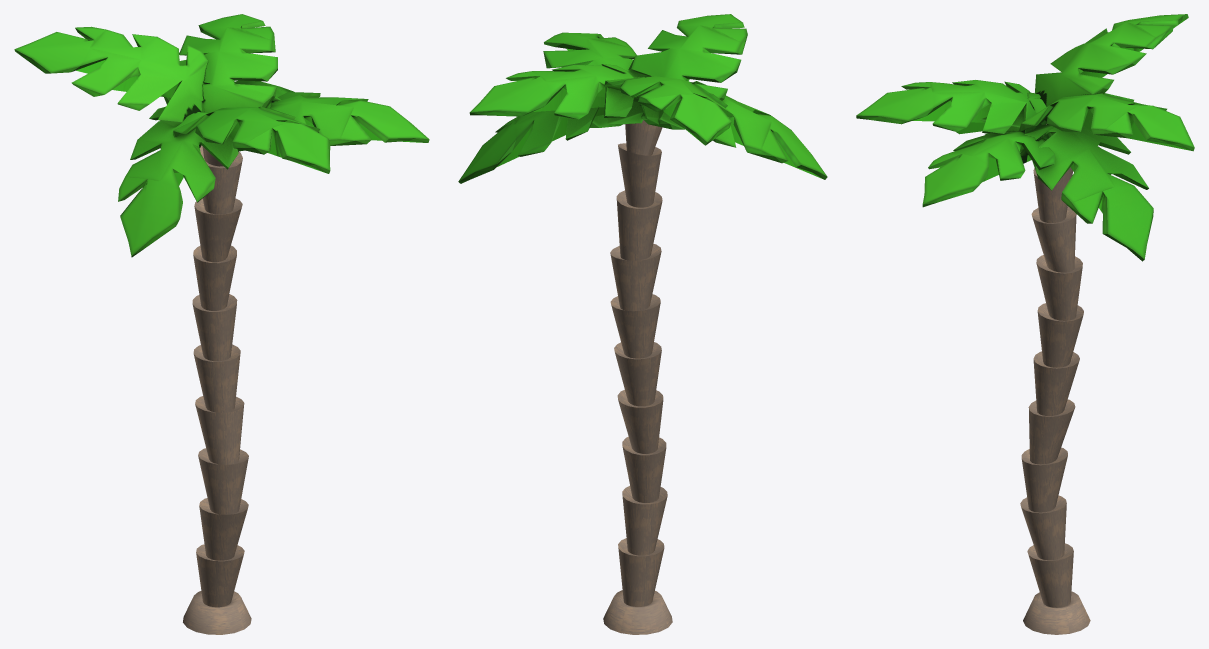
The model's file is Palm Tree_01.fbx.
3 views of the same model, side by side, from view 1: azimuth 30°, elevation 25°; view 2: azimuth 150°, elevation 25°; view 3: azimuth 270°, elevation 25° (orthographic). The views are drawn at different scales.
Visible parts, largest first — view 1: Palm tree_01; view 2: Palm tree_01; view 3: Palm tree_01.
Boxes of the visible parts, x1,y1,x2,y2 form: Palm tree_01: (14,14,429,634); Palm tree_01: (458,14,827,634); Palm tree_01: (856,14,1194,634).
Size of the model in its own units: 99.93 by 194 by 107.
2 materials, 2 textured.
